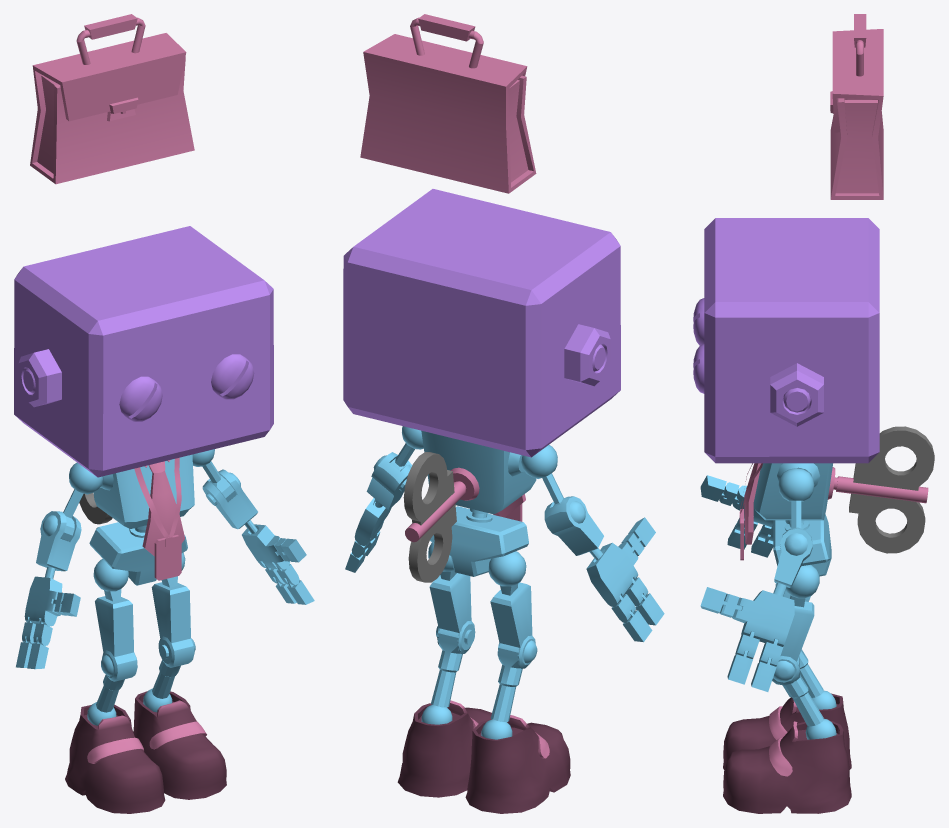
File: salaryman_01.fbx
3 views of the same model, side by side, from view 1: azimuth 30°, elevation 25°; view 2: azimuth 150°, elevation 25°; view 3: azimuth 270°, elevation 25° (orthographic). The views are drawn at different scales.
Visible parts, largest first — view 1: salary_head, ch_A_body, bag, shoses, necktie, bag_string, card, card_srring, Tube001; view 2: salary_head, ch_A_body, bag, shoses, Tube001, bag_string, spring; view 3: salary_head, ch_A_body, shoses, bag, Tube001, spring, necktie, bag_string.
Part boxes in pixels (left/top/right/bottom): salary_head: left=14, top=226, right=273, bottom=477; ch_A_body: left=16, top=449, right=314, bottom=725; bag: left=30, top=33, right=194, bottom=184; shoses: left=65, top=691, right=226, bottom=813; necktie: left=142, top=461, right=184, bottom=556; bag_string: left=76, top=14, right=145, bottom=64; card: left=154, top=535, right=181, bottom=580; card_srring: left=134, top=457, right=181, bottom=538; Tube001: left=79, top=493, right=112, bottom=524; salary_head: left=343, top=189, right=620, bottom=457; ch_A_body: left=345, top=426, right=664, bottom=739; bag: left=360, top=34, right=536, bottom=193; shoses: left=397, top=700, right=570, bottom=813; Tube001: left=403, top=452, right=456, bottom=582; bag_string: left=410, top=14, right=483, bottom=68; spring: left=405, top=467, right=479, bottom=542; salary_head: left=693, top=218, right=879, bottom=463; ch_A_body: left=700, top=463, right=836, bottom=739; shoses: left=723, top=693, right=851, bottom=813; bag: left=830, top=29, right=883, bottom=199; Tube001: left=849, top=426, right=934, bottom=553; spring: left=828, top=467, right=928, bottom=503; necktie: left=744, top=463, right=761, bottom=544; bag_string: left=854, top=14, right=866, bottom=76.
Size of the model in its own units: 560 by 1405 by 407.
